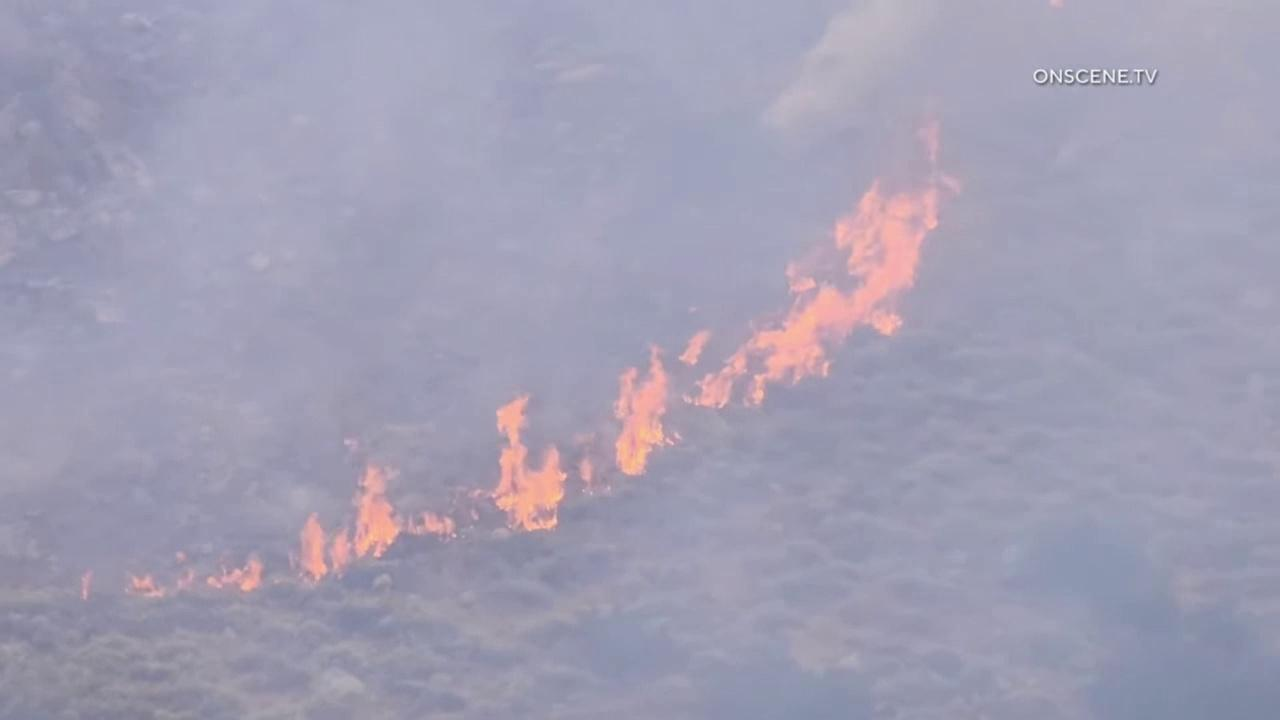fire: (121, 111, 965, 605), (75, 570, 96, 604)
smoke: (0, 0, 1280, 720)
